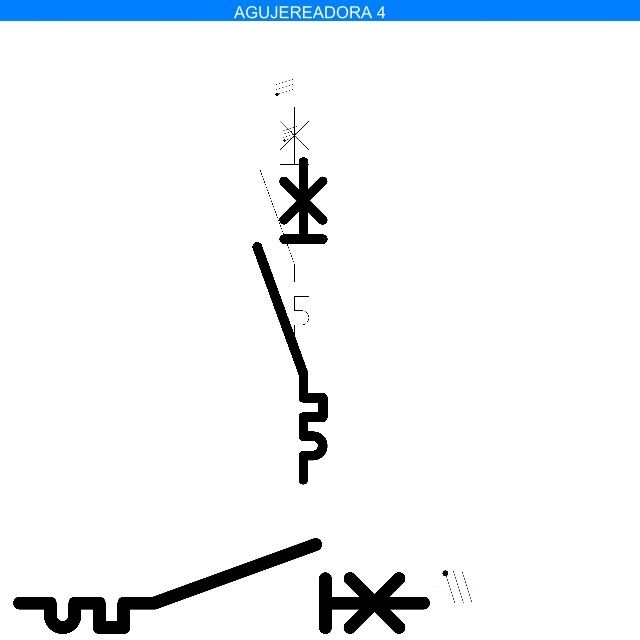interruptor_termomagnetico: (9, 534, 433, 638), (249, 153, 331, 487), (254, 101, 315, 349)
